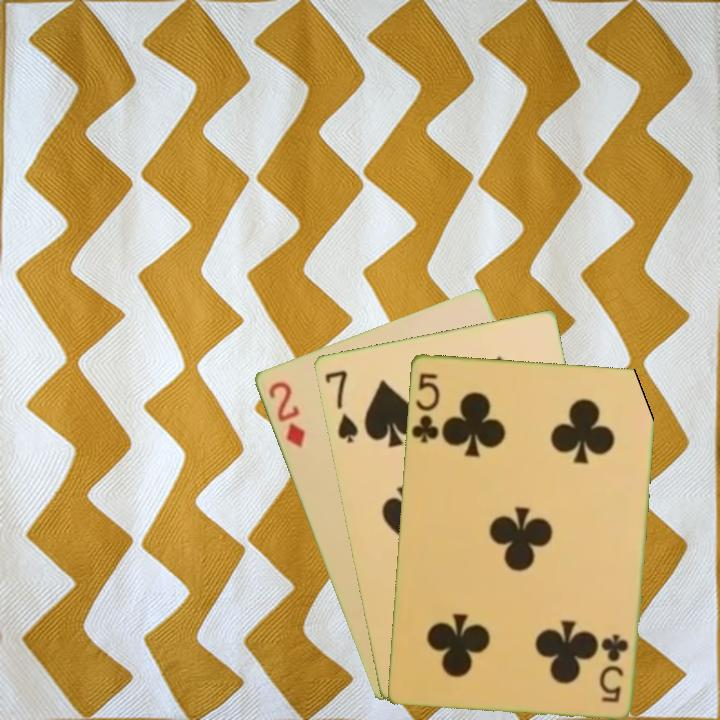2d: (264, 377, 308, 450)
5c: (596, 630, 631, 705), (408, 369, 442, 445)
7s: (321, 366, 361, 446)
